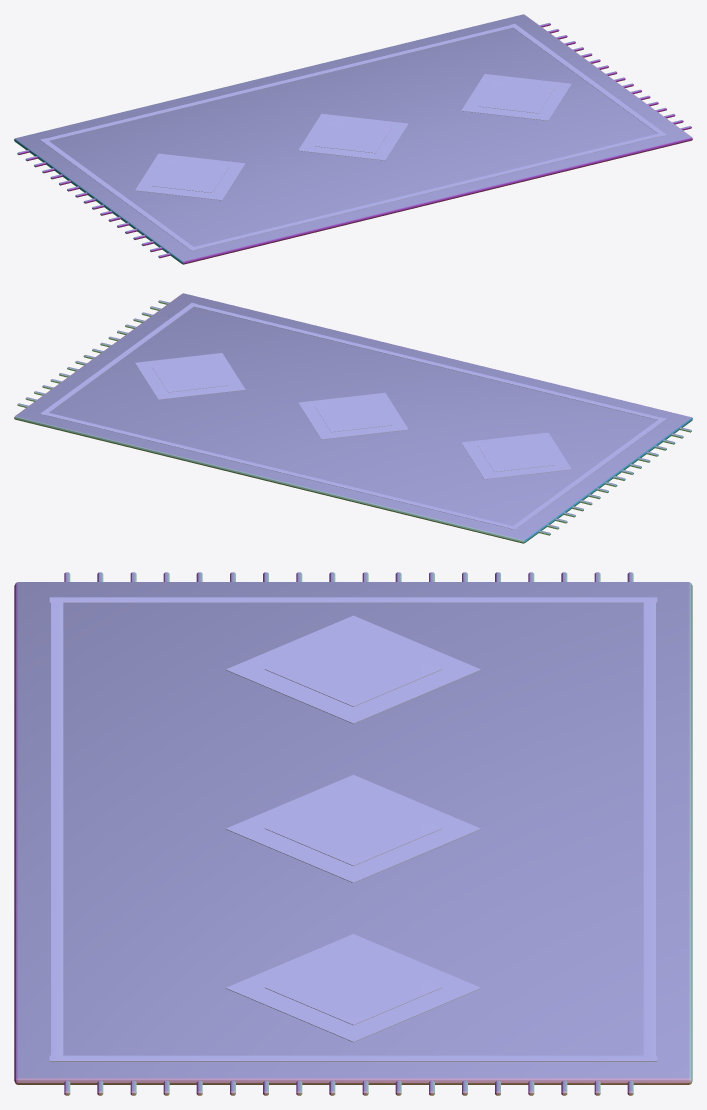
Rendered from env_dress_rug.glb.
3 views of the same model, one above another, from view 1: azimuth 30°, elevation 25°; view 2: azimuth 150°, elevation 25°; view 3: azimuth 270°, elevation 25° (orthographic). The views are drawn at different scales.
Visible parts, largest first — view 1: env_dress_rug_mesh; view 2: env_dress_rug_mesh; view 3: env_dress_rug_mesh.
Part boxes in pixels (x1,y1,x2,y2): env_dress_rug_mesh: [14, 14, 692, 264]; env_dress_rug_mesh: [14, 293, 692, 543]; env_dress_rug_mesh: [14, 572, 692, 1095].
Bounding box in the file's own units: 2.45 × 0.0195 × 1.35.
